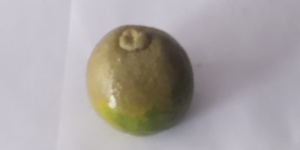BAD: (86, 23, 192, 136)
